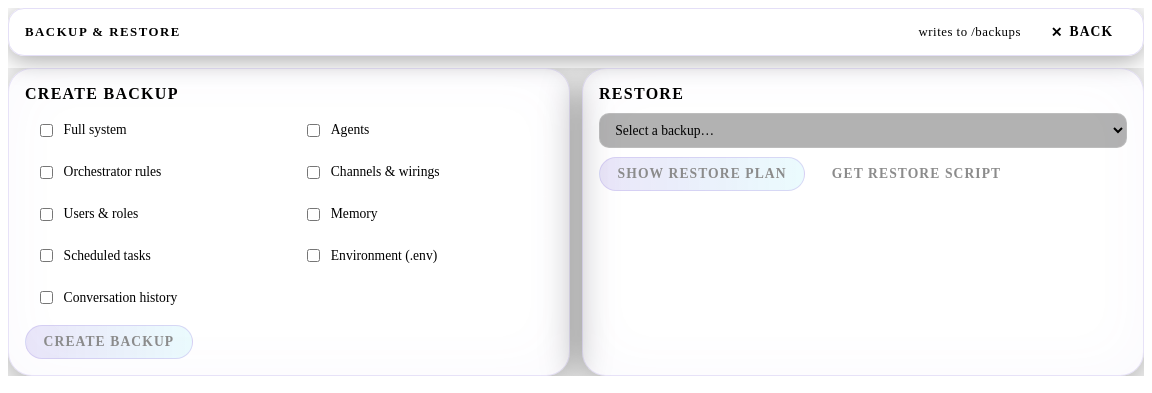
Test: BackupRestore › shows the restore script path
The width and height of the screenshot is (1152, 393).
Select "1/1/2026, 12:00:00 AM — agents, env (4.0 KB)" in the dropdown named "select backup" at (863, 130), box [599,113,1127,148]
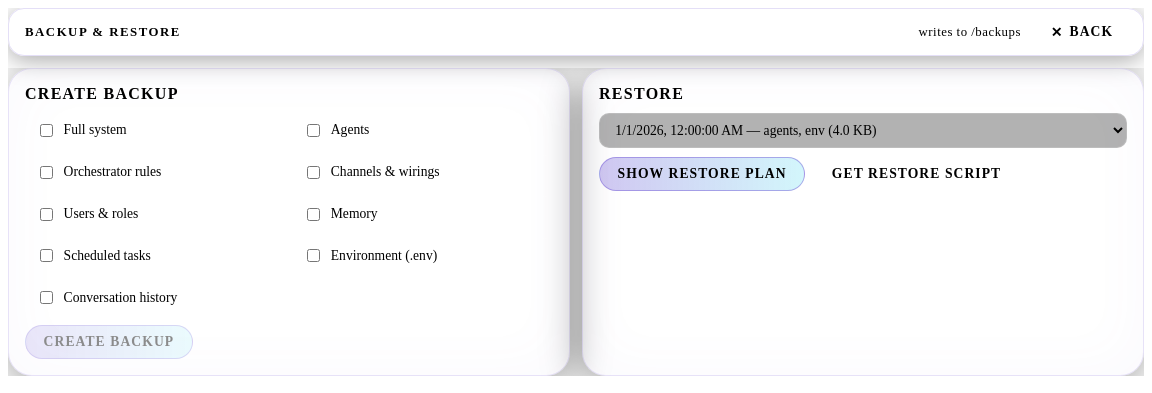
Click the button "Get restore script".
click(917, 174)  # box [813,157,1020,191]
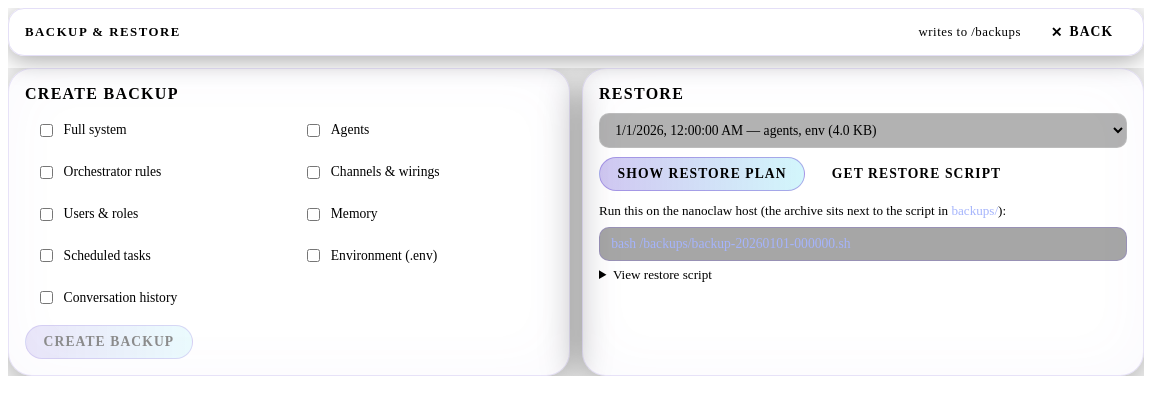
Expected: the text "bash /backups/backup-20260101-000000.sh" is shown, [599,227,1127,261]
